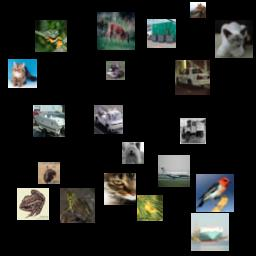airplane: (158, 155, 190, 187)
automobile: (175, 60, 210, 95)
bird: (196, 174, 234, 212), (137, 195, 163, 221), (38, 162, 60, 184)
cat: (215, 20, 253, 58), (104, 173, 136, 205), (8, 59, 37, 88)
deer: (97, 12, 135, 50)
dog: (122, 142, 144, 164), (106, 61, 125, 80)
frog: (60, 188, 95, 223), (17, 188, 49, 220), (35, 20, 67, 52)
ship: (191, 213, 229, 251), (33, 105, 65, 137)
truck: (147, 19, 176, 48), (94, 105, 123, 134), (180, 118, 206, 144)
